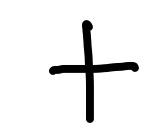plus: (52, 19, 134, 124)
